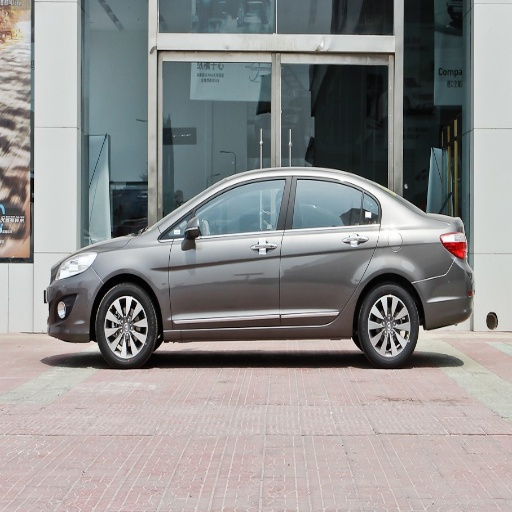back_left_door: (279, 174, 380, 323)
front_left_door: (172, 174, 290, 325)
